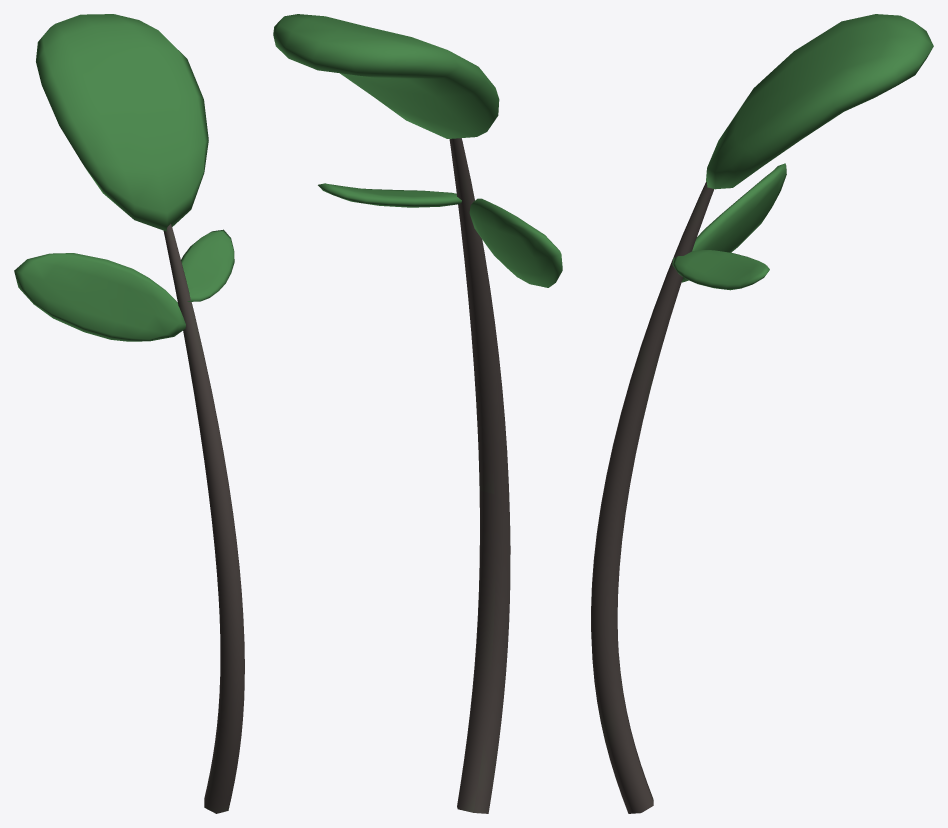
The model's file is plant 1.fbx.
The picture shows the model from 3 angles, left to right: view 1: azimuth 30°, elevation 25°; view 2: azimuth 150°, elevation 25°; view 3: azimuth 270°, elevation 25°; orthographic projection. The views are drawn at different scales.
Visible parts, largest first — view 1: Plant 3; view 2: Plant 3; view 3: Plant 3.
Part boxes in pixels (left/top/right/bottom): Plant 3: left=14, top=14, right=244, bottom=813; Plant 3: left=273, top=14, right=562, bottom=813; Plant 3: left=591, top=14, right=933, bottom=813.
Size of the model in its own units: 25.86 by 64.03 by 19.35.
